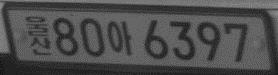0: (80, 17, 105, 57)
3: (168, 20, 196, 61)
6: (143, 18, 168, 60)
7: (222, 21, 248, 64)
8: (52, 17, 79, 57)
9: (196, 21, 221, 62)
아: (106, 19, 134, 56)
울산_V: (24, 15, 53, 57)
